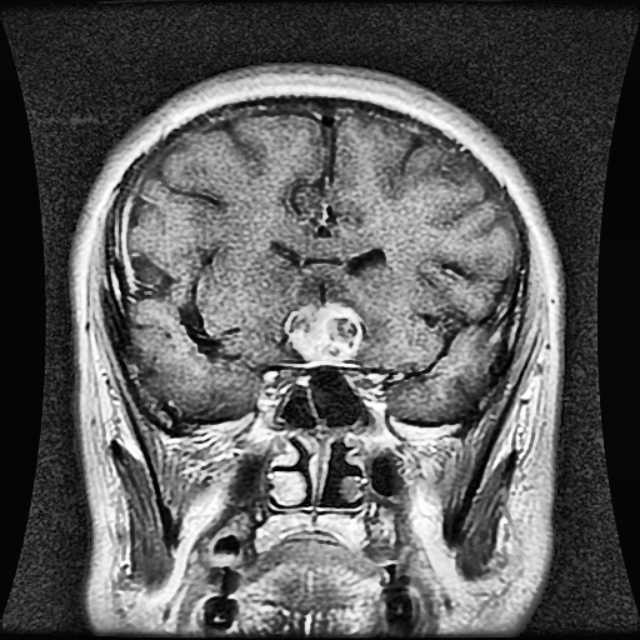Pituitary: (284, 304, 362, 360)
